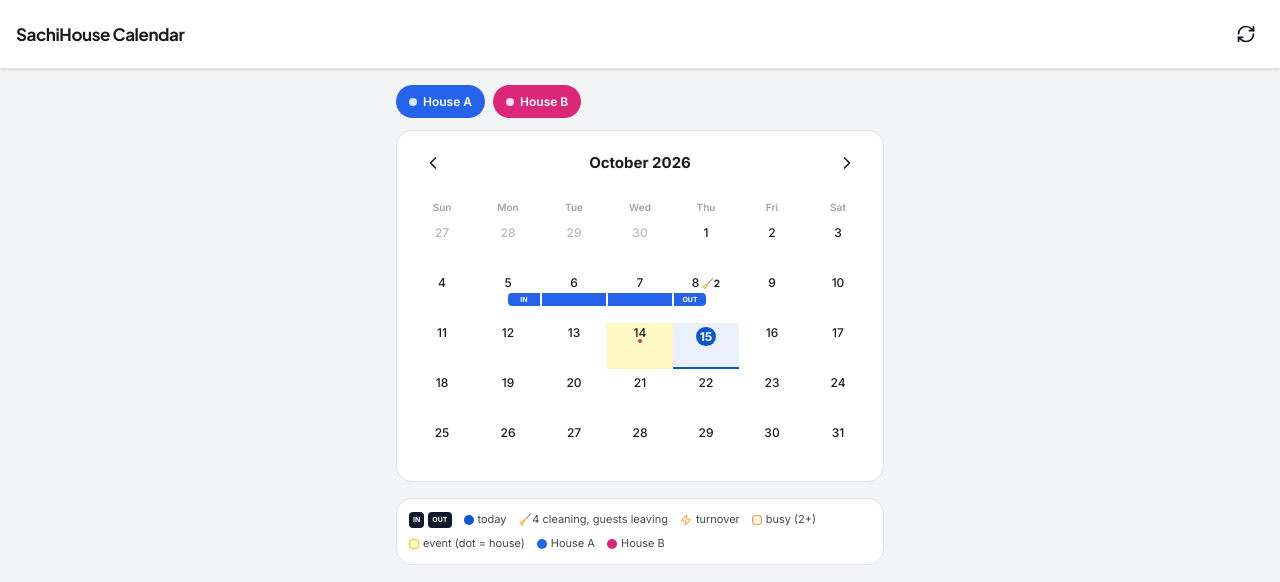
it: CleaningCalendarPage — events are display only › 27: a house with only events gets chip, legend and colour, but no empty lane
Click the button "House B": (537, 102) [493,85,581,118]
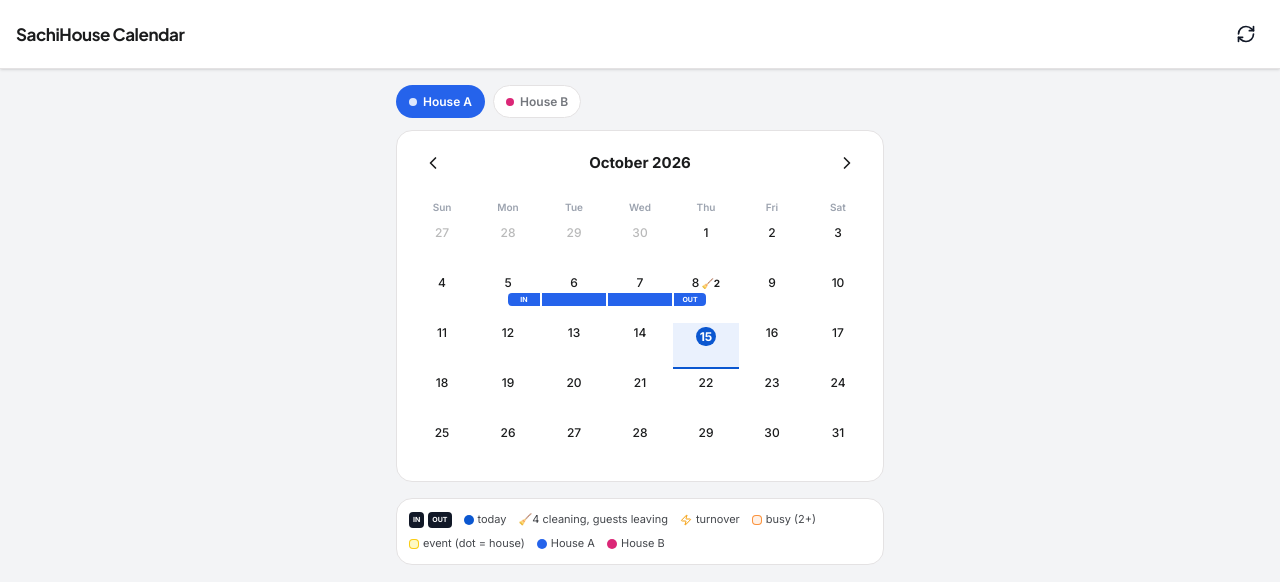
Expected: the text "In" below "Sun" is shown, [520,295,528,304]
Expected: the button "14" is disabled, [607,323,673,369]
Click the button "House B": (537, 102) [493,85,581,118]
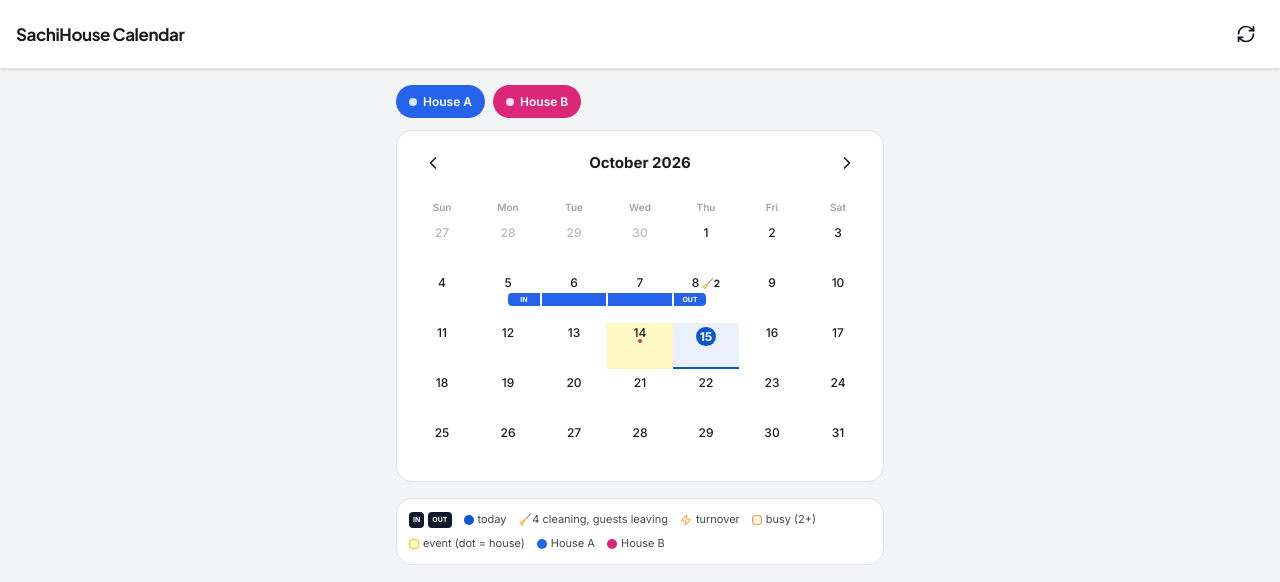
Expected: the button "14" is enabled, [607,323,673,369]
